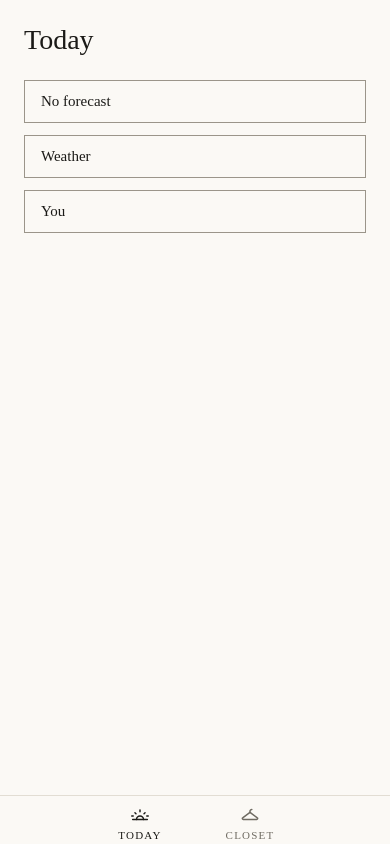
Test case: reaches You
What coordinates should you click on to do the following:
click the button "You"
I would click on:
 (53, 211)
Its box is [24,190,366,233].
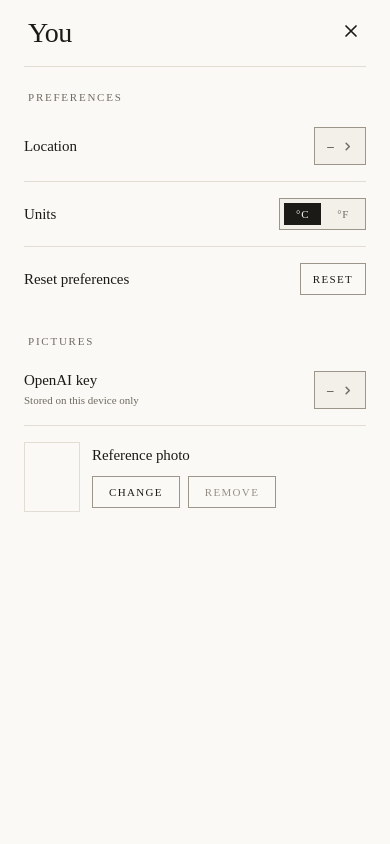
Result: the heading "You" is shown at [28,16,72,50]
